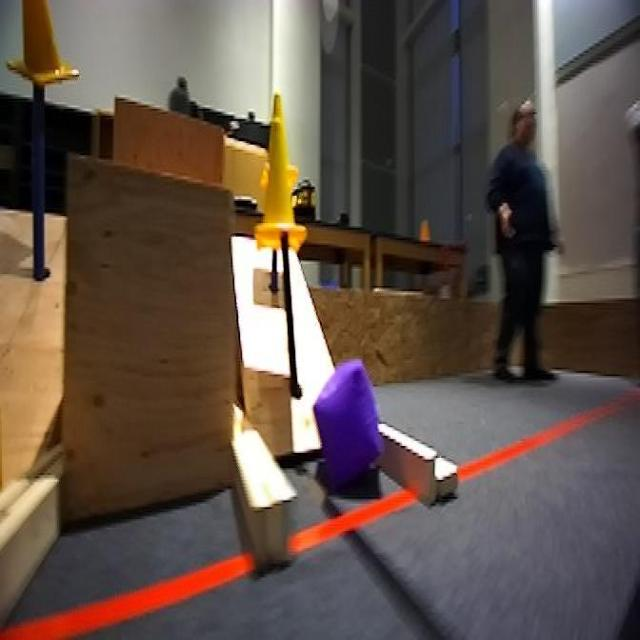frc_cone: (5, 0, 81, 94), (253, 122, 304, 258), (261, 90, 300, 186)
frc_cube: (308, 358, 391, 488)
